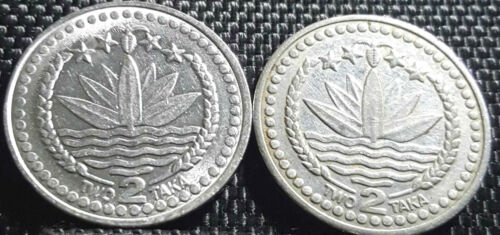5 taka coin: (4, 1, 251, 222), (253, 13, 496, 235)
